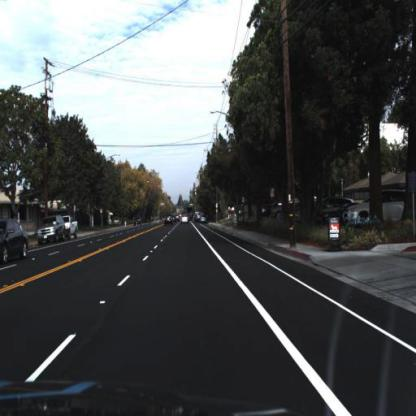car: (1, 215, 32, 264), (39, 214, 67, 244), (59, 216, 80, 240), (163, 213, 176, 229)
